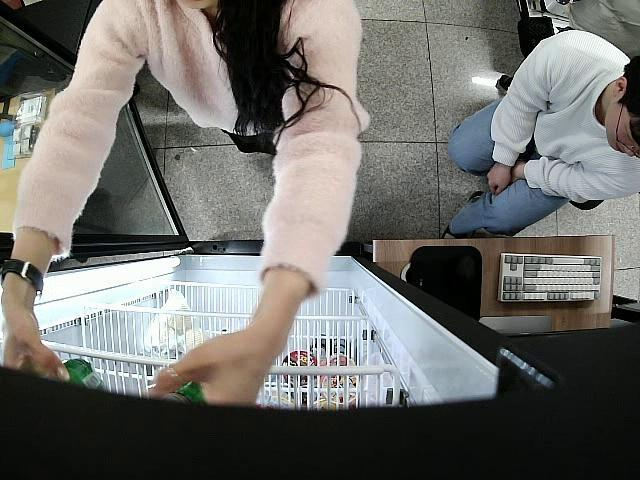18_trevi: (53, 356, 112, 396), (160, 381, 213, 407)
